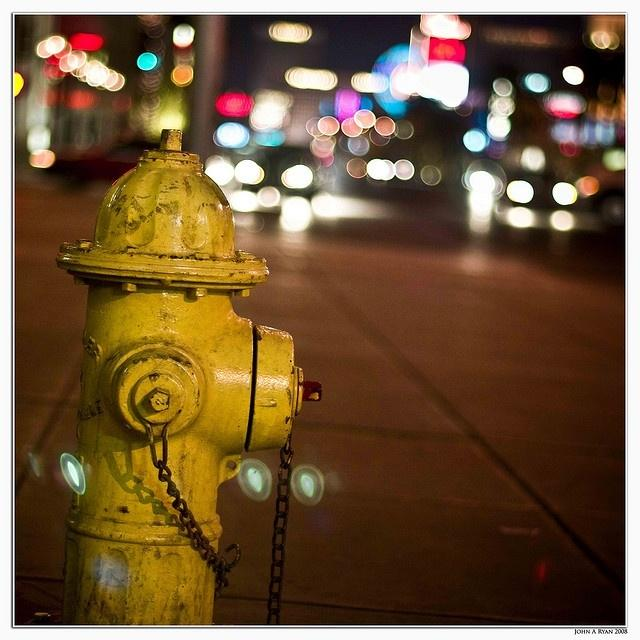fire_hydrant: (44, 58, 372, 640)
